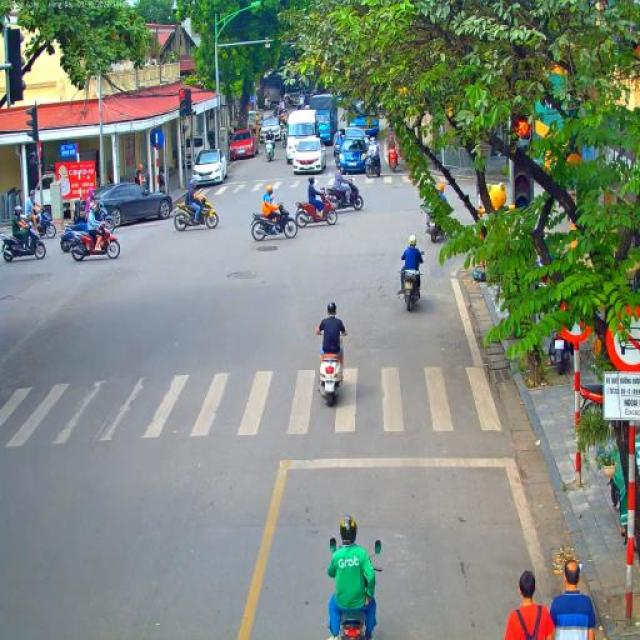car: (90, 183, 172, 229), (292, 135, 327, 175), (191, 149, 228, 186), (336, 136, 368, 175), (228, 130, 258, 161), (259, 118, 283, 142), (346, 126, 368, 142)
motorcycle: (327, 536, 382, 640), (315, 337, 347, 408), (249, 202, 299, 242), (0, 220, 46, 262), (69, 227, 122, 262), (172, 194, 220, 232), (294, 190, 338, 229), (324, 175, 364, 213), (397, 262, 423, 312), (60, 218, 94, 253), (548, 327, 570, 375), (420, 202, 444, 242), (33, 204, 57, 240), (88, 201, 114, 233), (578, 383, 602, 409), (364, 150, 381, 178), (387, 148, 398, 172), (332, 144, 342, 168), (264, 142, 276, 162), (282, 130, 288, 150)
truck: (286, 108, 320, 164), (306, 94, 339, 146), (350, 102, 380, 136)
